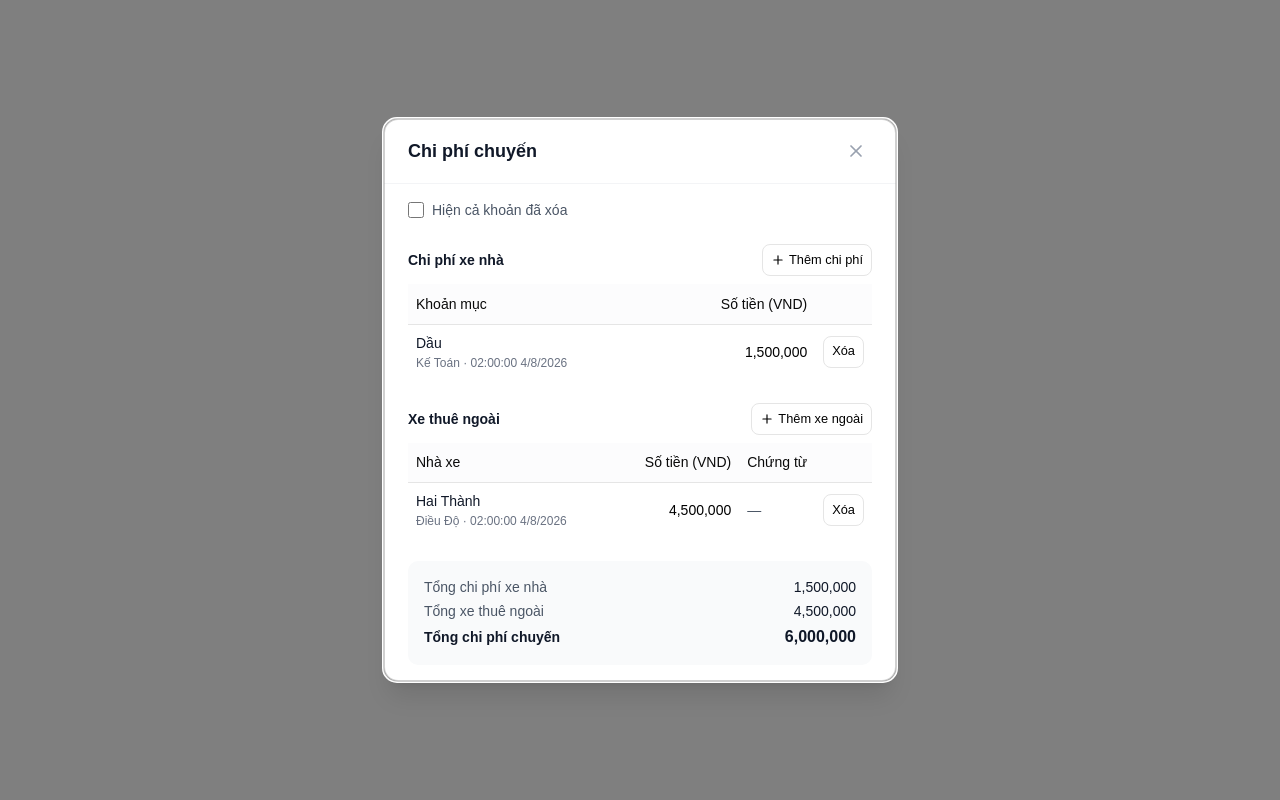
TripCostModal › what it shows › ★ the add form appears in place › keeps the running totals on screen while the amount is typed
Step 1. Click the button "Thêm chi phí" → click(817, 260), box 762,244 -> 872,276
(page scrolled)
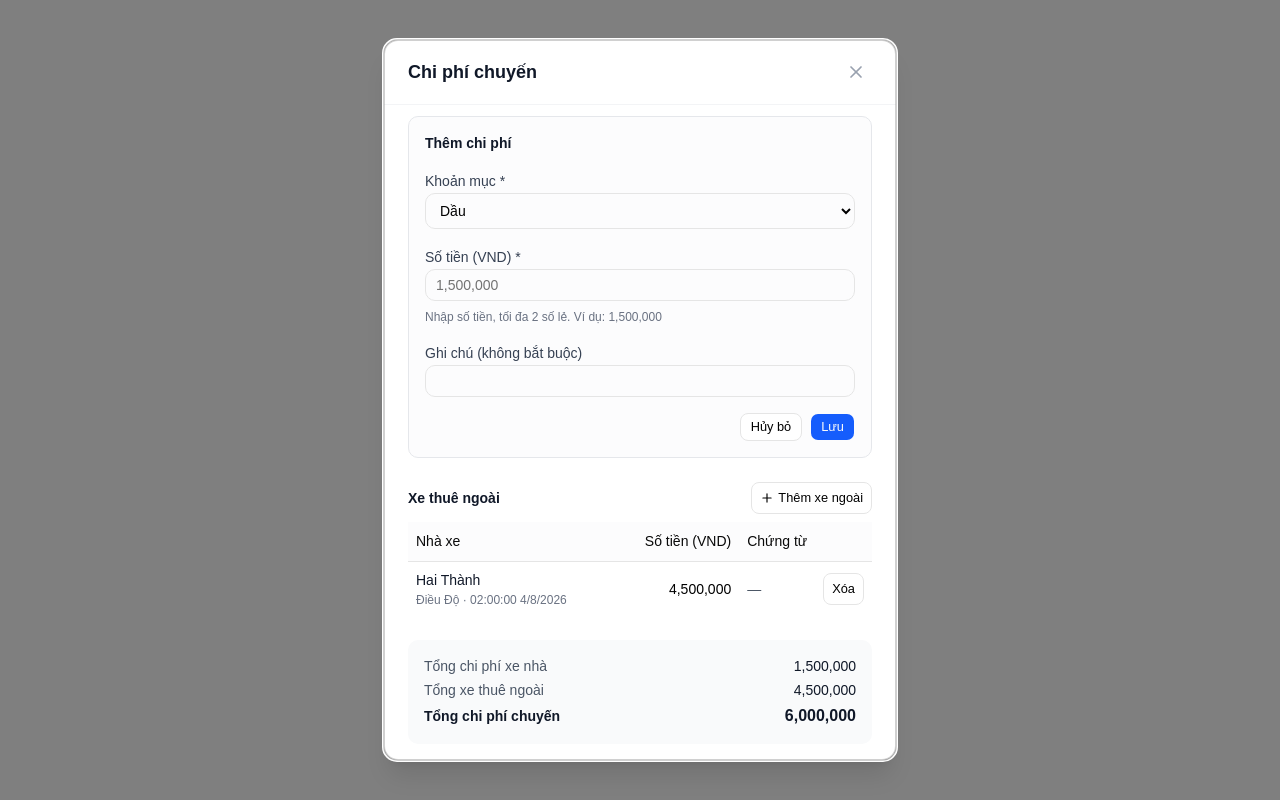
Expected: the text "Tổng chi phí chuyến" is shown, 424,706 -> 560,726
Result: the field labelled "Số tiền (VND) *" is shown at 425,268 -> 855,300
